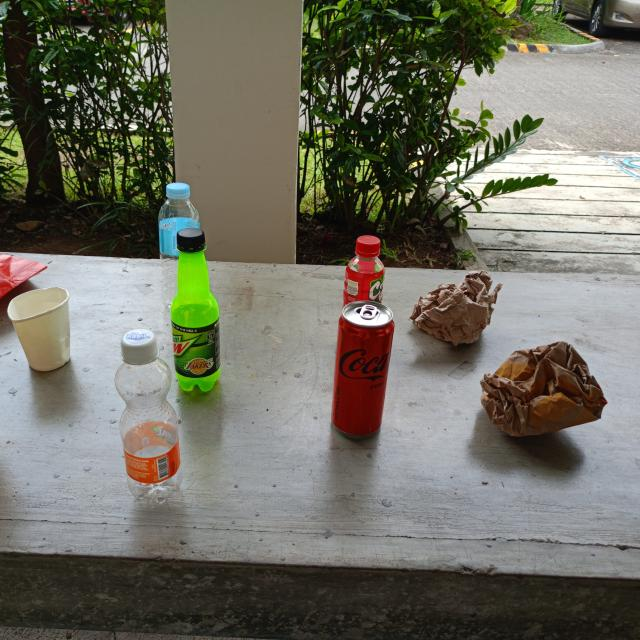Anorganik: (107, 322, 191, 507), (324, 296, 402, 447), (165, 220, 227, 398), (155, 178, 207, 316), (335, 231, 390, 319)
Organik: (471, 335, 613, 445), (402, 266, 504, 348), (3, 279, 77, 380)
